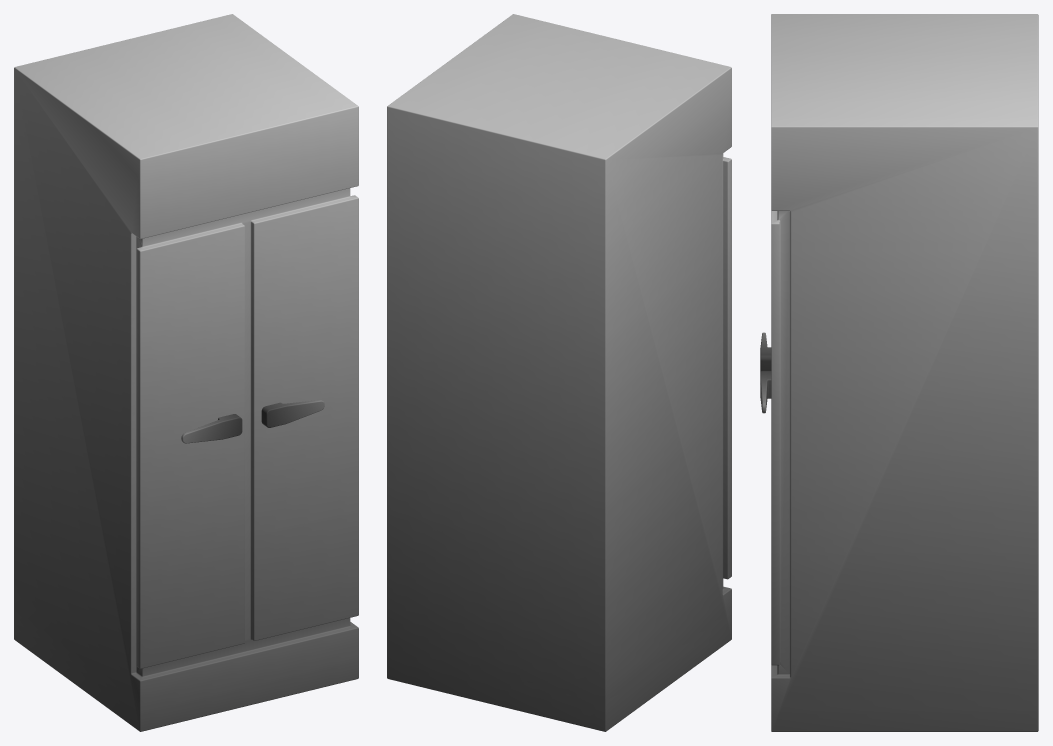
Rendered from HH_Fridge.fbx.
3 renders of one model, left to right at view 1: azimuth 30°, elevation 25°; view 2: azimuth 150°, elevation 25°; view 3: azimuth 270°, elevation 25°, orthographic. The views are drawn at different scales.
Visible parts, largest first — view 1: Fridge; view 2: Fridge; view 3: Fridge.
Boxes of the visible parts, x1=… form: Fridge: x1=14, y1=14, x2=358, y2=731; Fridge: x1=387, y1=14, x2=731, y2=731; Fridge: x1=760, y1=14, x2=1038, y2=731.
Bounding box in the file's own units: 100 × 250 × 104.
Materials: 1 (1 with a texture image).
